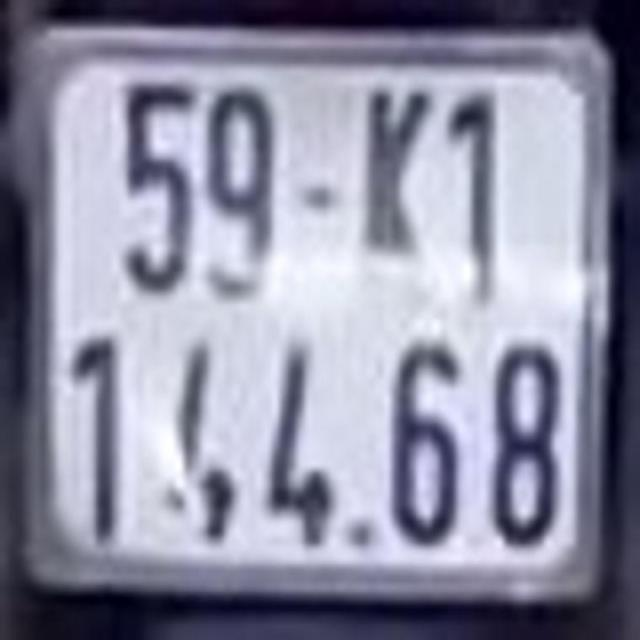1: (68, 338, 128, 537), (446, 85, 501, 290)
4: (269, 337, 334, 553), (166, 343, 232, 544)
5: (129, 80, 193, 290)
6: (390, 326, 462, 550)
8: (488, 337, 556, 553)
9: (202, 88, 269, 299)
K: (360, 83, 427, 279)
